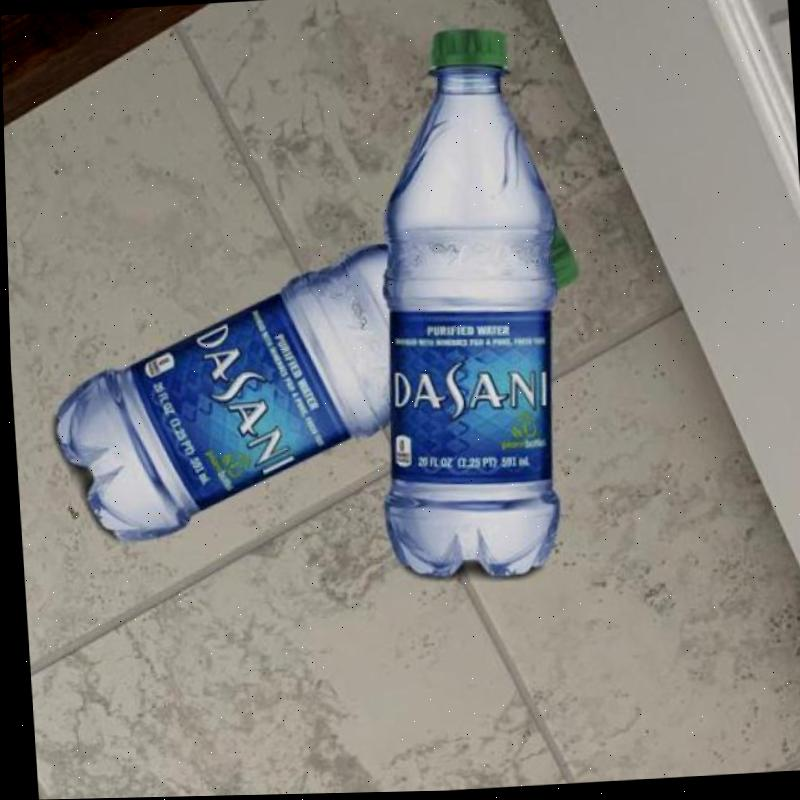botella: (41, 221, 594, 543), (353, 27, 578, 585)
